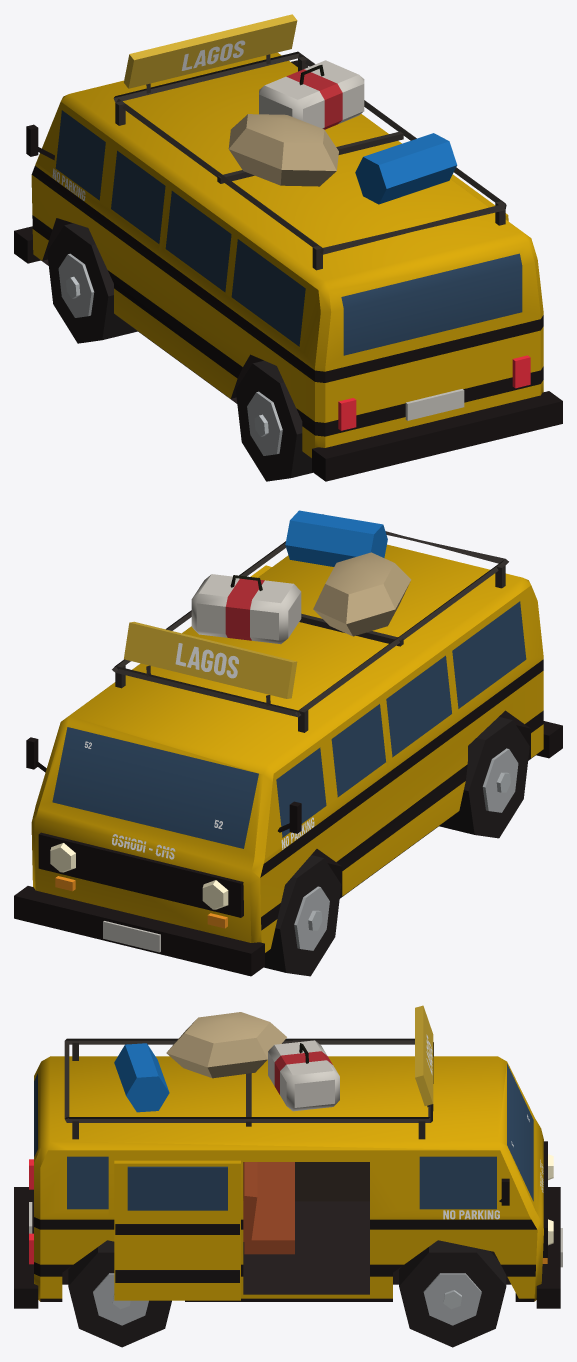
Rendered from danfo_lod1.glb.
The picture shows the model from 3 angles, top to bottom: view 1: azimuth 30°, elevation 25°; view 2: azimuth 150°, elevation 25°; view 3: azimuth 270°, elevation 25°; orthographic projection. The views are drawn at different scales.
Parts seen in each view (by area): view 1: danfo_body, wheel_FL, wheel_RL, danfo_decals; view 2: danfo_body, wheel_RL, wheel_FL, danfo_decals; view 3: danfo_body, wheel_FR, wheel_RR, danfo_decals.
Part boxes in pixels (box(x1,y1,x2,y2)): danfo_body: box(14, 14, 562, 481); wheel_FL: box(47, 223, 137, 343); wheel_RL: box(235, 360, 312, 481); danfo_decals: box(52, 40, 245, 200); danfo_body: box(14, 510, 562, 976); wheel_RL: box(439, 717, 529, 838); wheel_FL: box(264, 855, 341, 976); danfo_decals: box(84, 643, 314, 859); danfo_body: box(14, 1005, 562, 1308); wheel_FR: box(399, 1240, 506, 1347); wheel_RR: box(68, 1240, 171, 1347); danfo_decals: box(426, 1034, 543, 1219).
Bounding box in the file's own units: 2.49 × 2.64 × 4.98.
3 materials, 1 textured.
